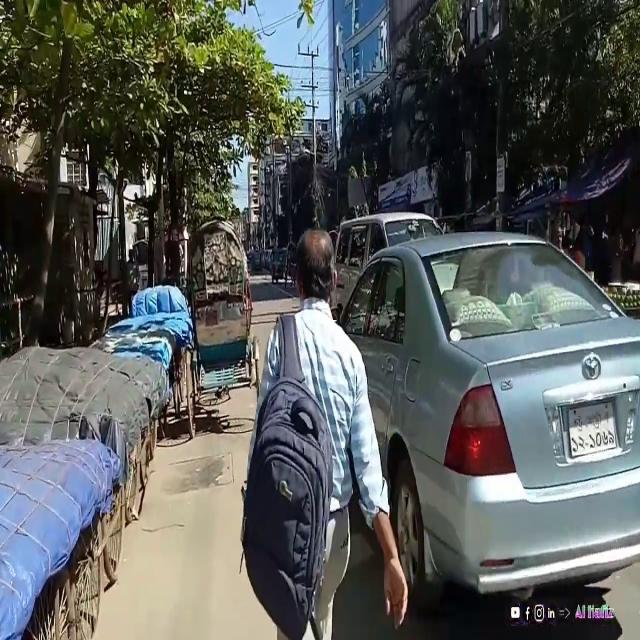silver: (338, 248, 640, 605)
